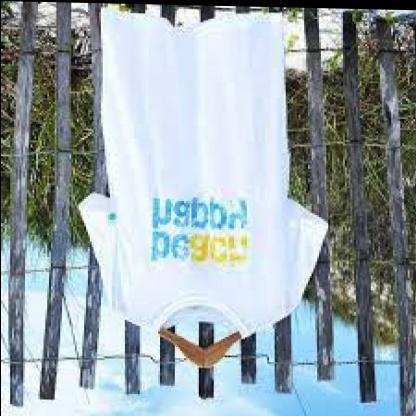Miscellaneous: (90, 1, 312, 374)
